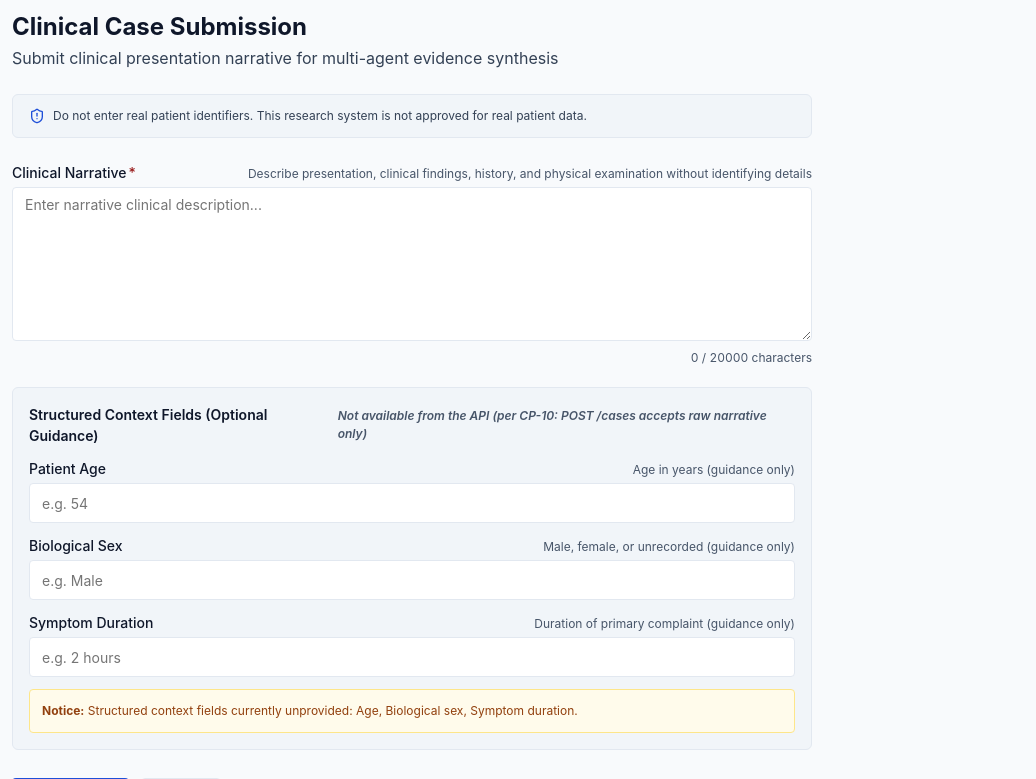
Test: CaseSubmissionPage (UI-2) › computes missing-information hints strictly from empty structured fields
Expected: the text "Structured context fields currently unprovided: Age, Biological sex, Symptom duration" is shown, x1=29 y1=689 x2=795 y2=733
# Fill in age
Type "45" into the field labelled "Patient Age". click: (412, 503)
box: x1=29 y1=483 x2=795 y2=523
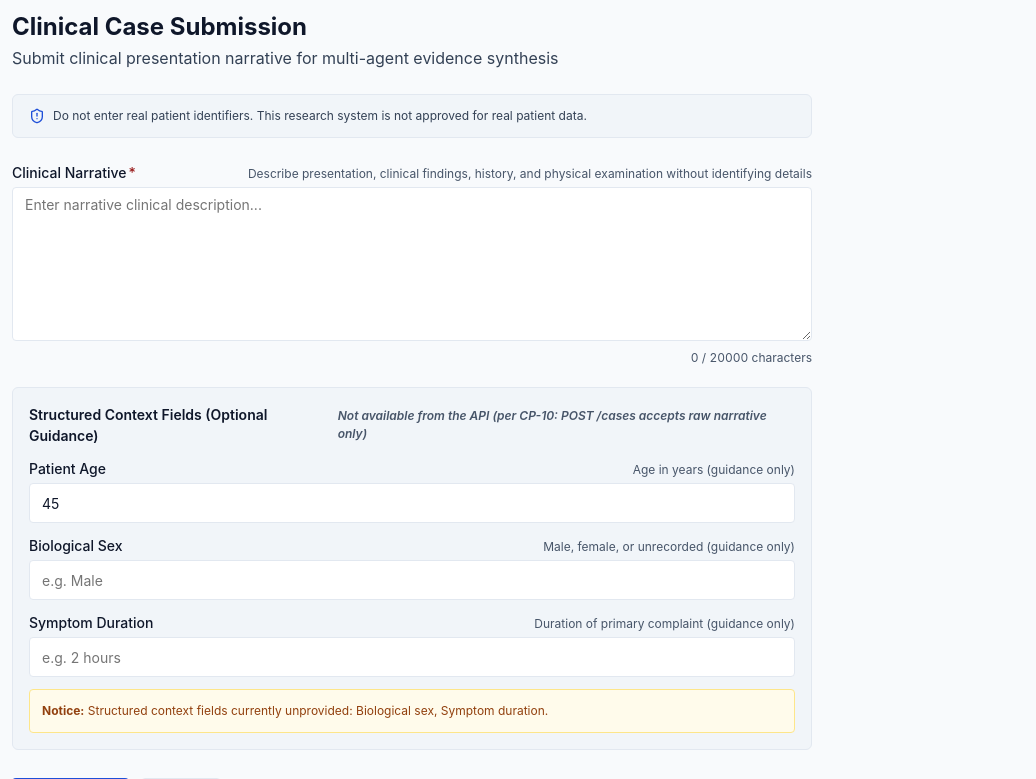
Expected: the text "Structured context fields currently unprovided: Biological sex, Symptom duration" is shown, x1=29 y1=689 x2=795 y2=733
# Fill in sex and duration
Type "Female" into the field labelled "Biological Sex". click: (412, 580)
box: x1=29 y1=560 x2=795 y2=600
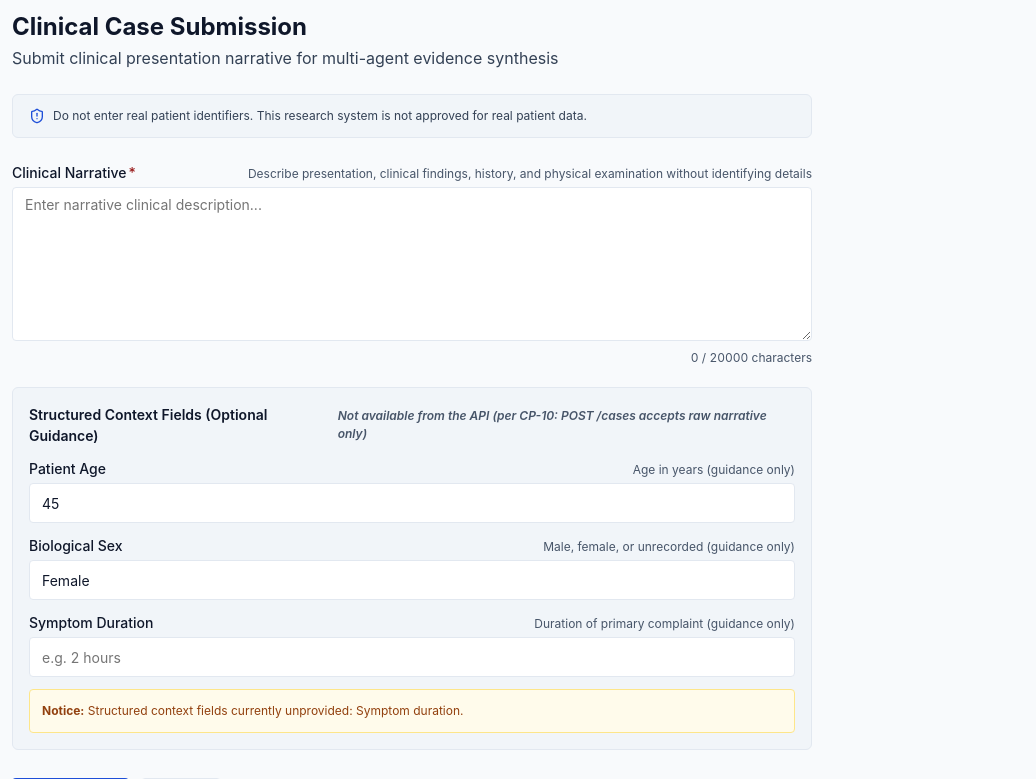
Type "3 days" into the field labelled "Symptom Duration". click: (412, 657)
box: x1=29 y1=637 x2=795 y2=677
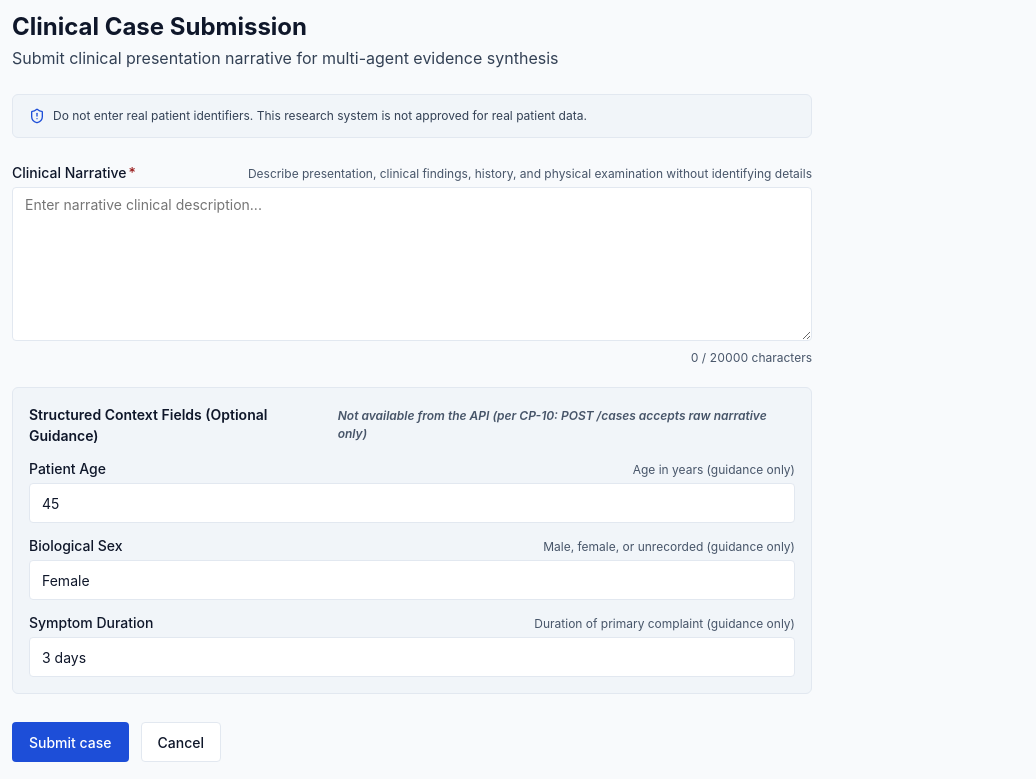
Expected: the text "Structured context fields currently unprovided" is gone
